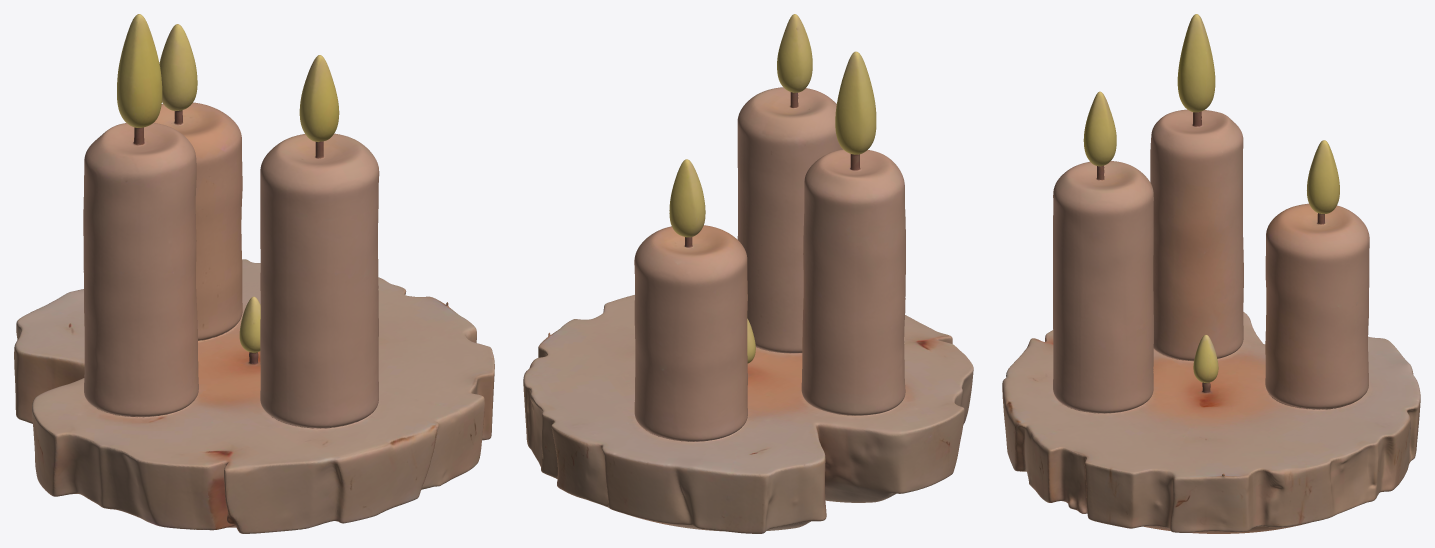
File: detailed_realistic_model_floatingcandles_05.glb
3 renders of one model, left to right at view 1: azimuth 30°, elevation 25°; view 2: azimuth 150°, elevation 25°; view 3: azimuth 270°, elevation 25°, orthographic. The views are drawn at different scales.
Parts seen in each view (by area): view 1: tripo_node_5f32c173-7c14-4fd8-920e-503548d4da82; view 2: tripo_node_5f32c173-7c14-4fd8-920e-503548d4da82; view 3: tripo_node_5f32c173-7c14-4fd8-920e-503548d4da82.
Boxes of the visible parts, x1,y1,x2,y2 form: tripo_node_5f32c173-7c14-4fd8-920e-503548d4da82: (14,14,494,533); tripo_node_5f32c173-7c14-4fd8-920e-503548d4da82: (523,14,973,533); tripo_node_5f32c173-7c14-4fd8-920e-503548d4da82: (1002,14,1420,533).
Size of the model in its own units: 0.9127 by 1 by 0.9.
1 material, 1 textured.
